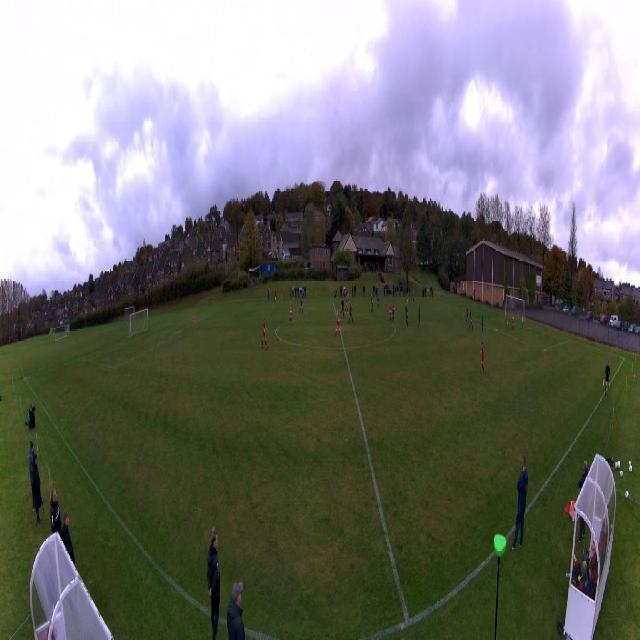ball: (507, 323, 508, 325)
player: (261, 317, 268, 351), (335, 310, 342, 337), (481, 340, 485, 374), (348, 301, 354, 323), (469, 312, 474, 331), (388, 303, 392, 323), (299, 294, 303, 314), (344, 295, 348, 315), (465, 306, 469, 326), (340, 297, 344, 317), (511, 313, 515, 330), (289, 302, 292, 324), (418, 307, 421, 328), (392, 302, 395, 322), (371, 294, 374, 313), (405, 307, 408, 326), (377, 291, 380, 309), (193, 313, 196, 331), (482, 314, 484, 332), (406, 293, 408, 309), (413, 293, 415, 307), (392, 297, 395, 306), (348, 290, 350, 302)
